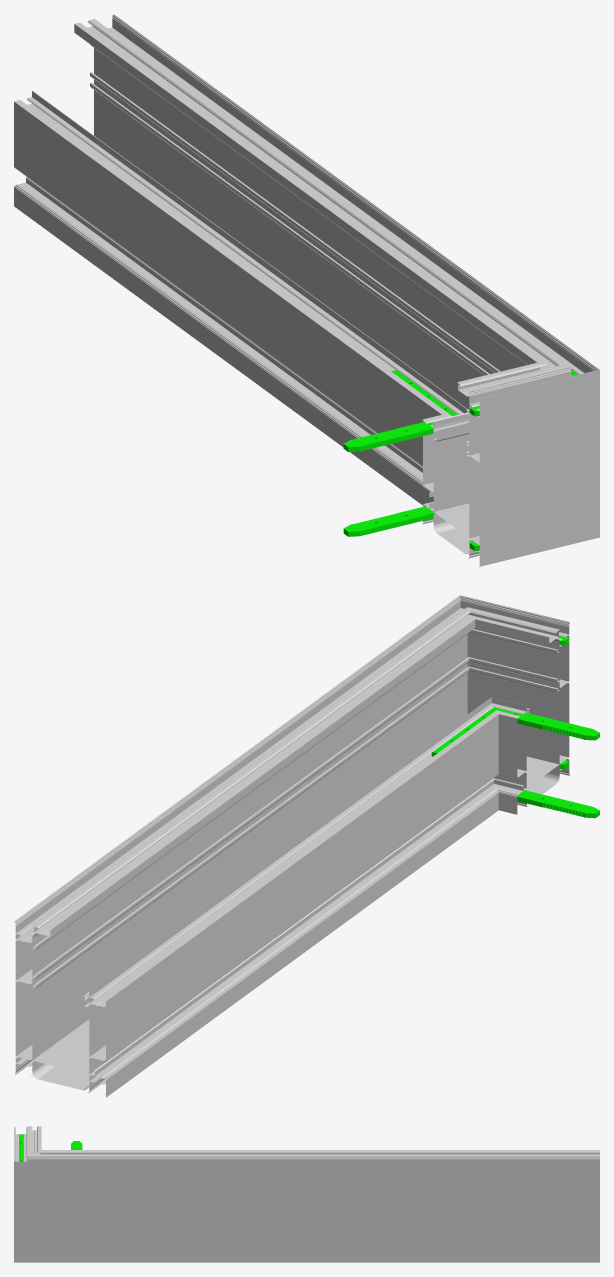
3 views of the same model, one above another, from view 1: azimuth 30°, elevation 25°; view 2: azimuth 150°, elevation 25°; view 3: azimuth 270°, elevation 25° (orthographic). The views are drawn at different scales.
Parts seen in each view (by area): view 1: 3DGeom-265, 3DGeom-258, 3DGeom-10 (×2); view 2: 3DGeom-265, 3DGeom-258, 3DGeom-10 (×2); view 3: 3DGeom-265, 3DGeom-258.
Part boxes in pixels (left/top/right/bottom): 3DGeom-265: left=14, top=14, right=529, bottom=506; 3DGeom-258: left=422, top=319, right=599, bottom=566; 3DGeom-10 (×2): left=343, top=370, right=457, bottom=536; 3DGeom-265: left=14, top=641, right=488, bottom=1097; 3DGeom-258: left=396, top=595, right=569, bottom=817; 3DGeom-10 (×2): left=431, top=707, right=599, bottom=818; 3DGeom-265: left=97, top=1150, right=599, bottom=1262; 3DGeom-258: left=14, top=1126, right=97, bottom=1262.
Size of the model in its own units: 0.2562 by 0.2032 by 1.07.
